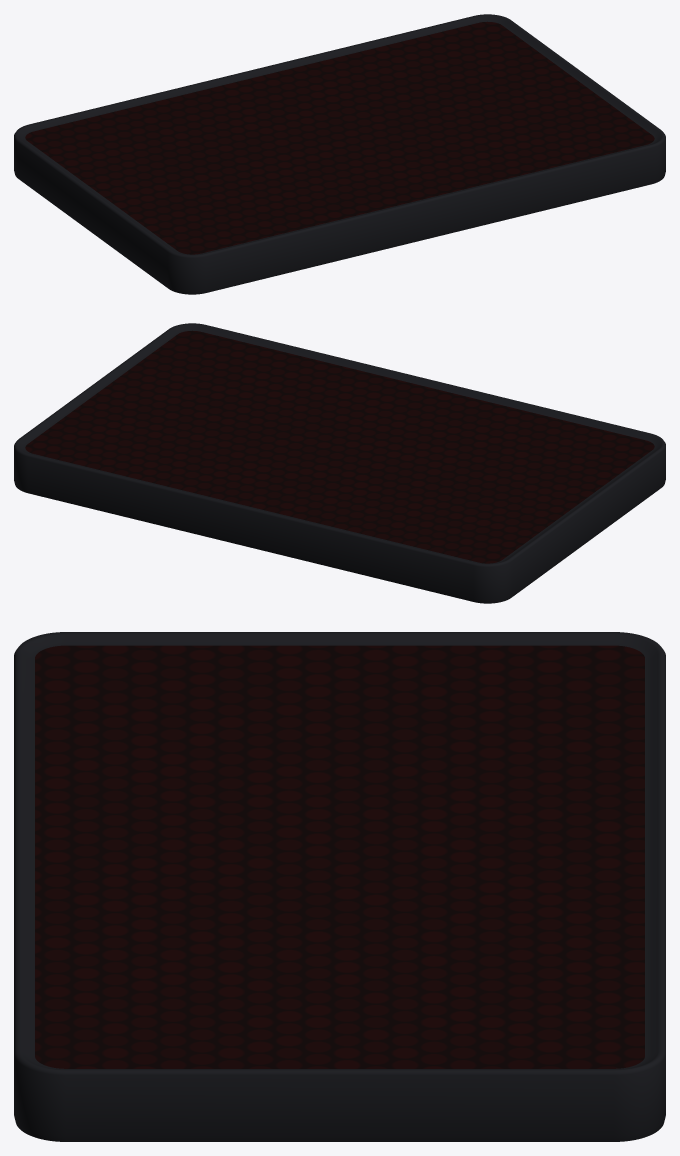
Rendered from rear-reflector-30201069-visible-v2.glb.
3 renders of one model, top to bottom at view 1: azimuth 30°, elevation 25°; view 2: azimuth 150°, elevation 25°; view 3: azimuth 270°, elevation 25°, orthographic. The views are drawn at different scales.
Visible parts, largest first — view 1: EXTERIOR_CHILD; view 2: EXTERIOR_CHILD; view 3: EXTERIOR_CHILD.
Part boxes in pixels (x1,y1,x2,y2): EXTERIOR_CHILD: (14,14,665,294); EXTERIOR_CHILD: (14,323,665,603); EXTERIOR_CHILD: (14,632,665,1141).
Size of the model in its own units: 0.08 by 0.006 by 0.05.
Materials: 2 (1 with a texture image).
